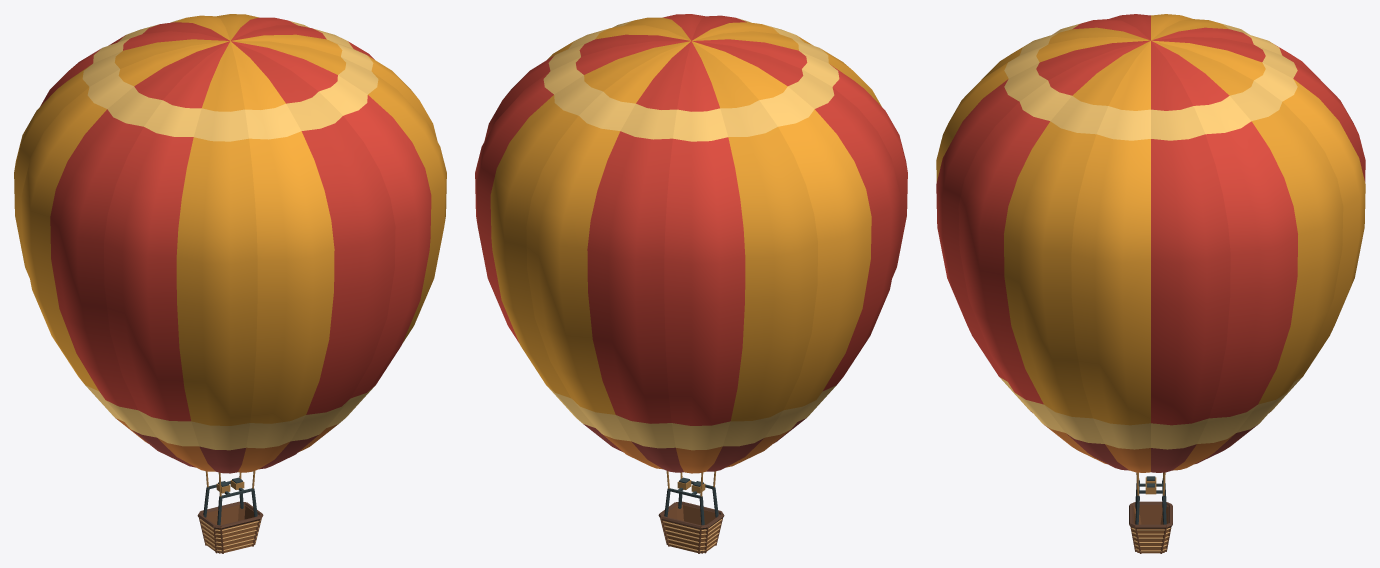
The model's file is hot_air_balloon_sunburst.glb.
The picture shows the model from 3 angles, left to right: view 1: azimuth 30°, elevation 25°; view 2: azimuth 150°, elevation 25°; view 3: azimuth 270°, elevation 25°; orthographic projection.
Visible parts, largest first — view 1: EnvelopeAndBasket; view 2: EnvelopeAndBasket; view 3: EnvelopeAndBasket.
Boxes of the visible parts, box(x1,y1,x2,y2) form: EnvelopeAndBasket: box(14, 14, 446, 553); EnvelopeAndBasket: box(475, 14, 907, 553); EnvelopeAndBasket: box(936, 14, 1365, 553).
Bounding box in the file's own units: 16.46 × 21.31 × 16.46.
1 material, 1 textured.
